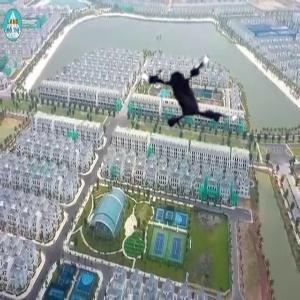drone: (130, 26, 257, 153)
